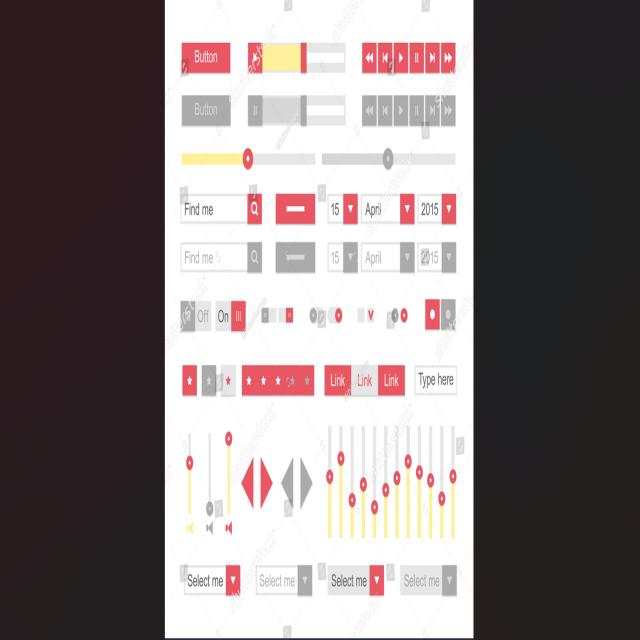checkbox: (366, 305, 376, 323)
radio: (399, 306, 408, 324)
toggle: (326, 306, 344, 326)
